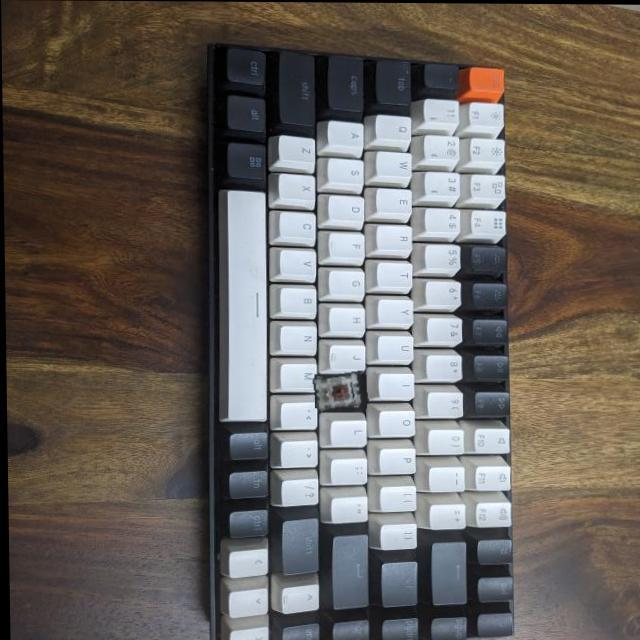key-switch: (311, 372, 365, 410)
